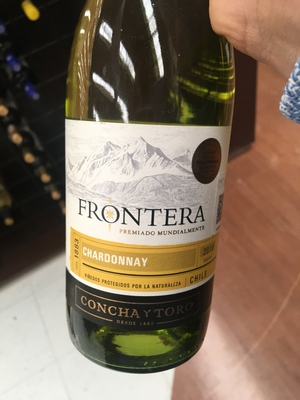frontera chardonnay: (47, 4, 235, 384)
